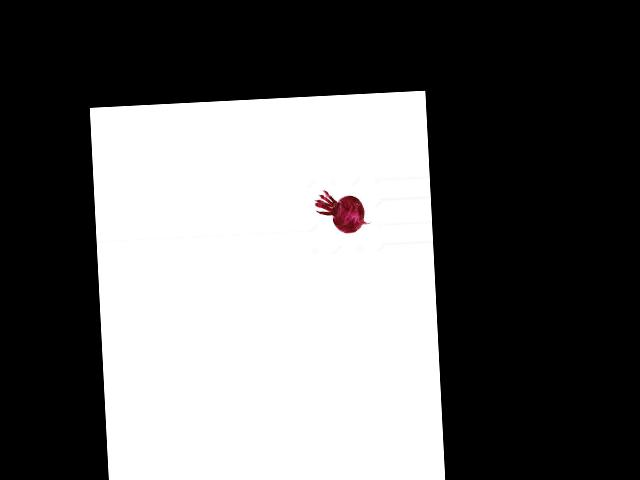beet: (314, 188, 372, 235)
